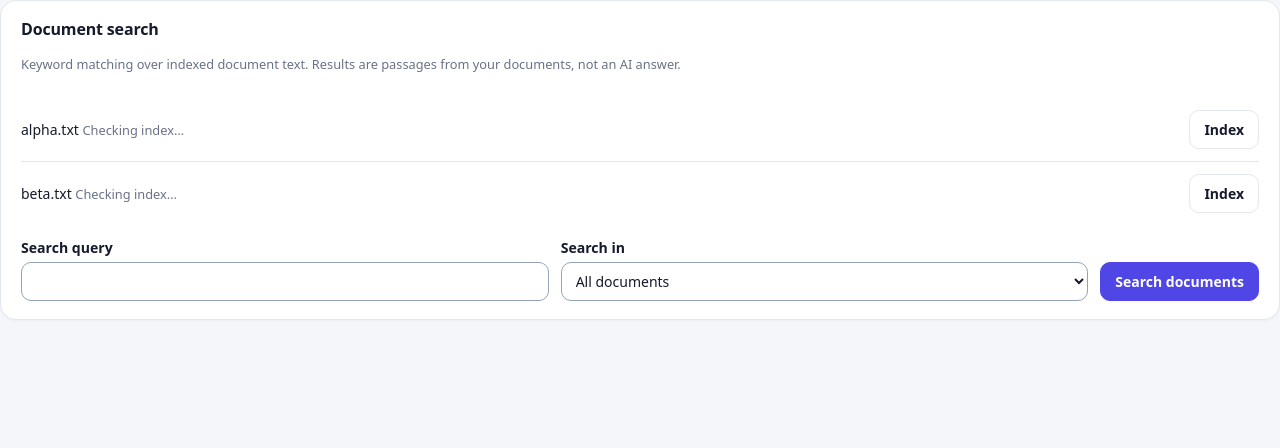
Test case: DocumentSearch › shows an empty-results state
The image size is (1280, 448).
Expected: the button with aria-label "Index alpha.txt" is shown, [1189,110,1259,149]
Type "nothing" into the search field labelled "Search query" at (285, 282), box [21,262,549,301]
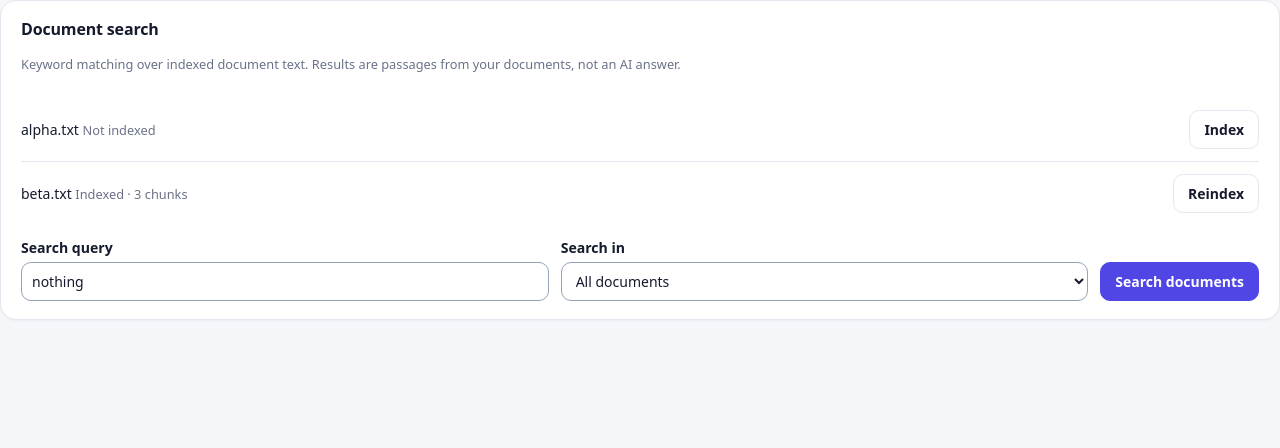
Click the button "Search documents" at (1180, 282), box [1100,262,1259,301]
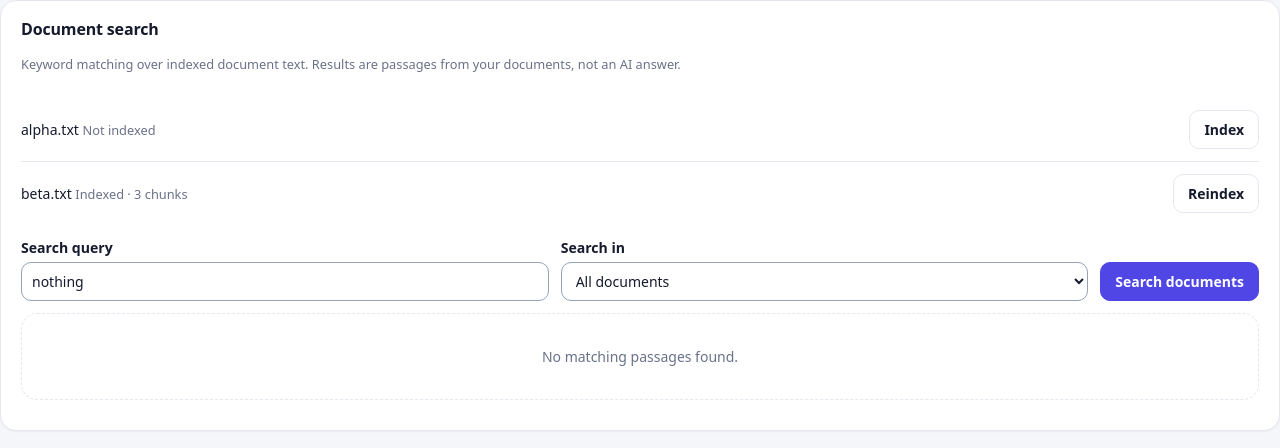
Expected: the text "No matching passages found." is shown, [21,313,1259,400]
